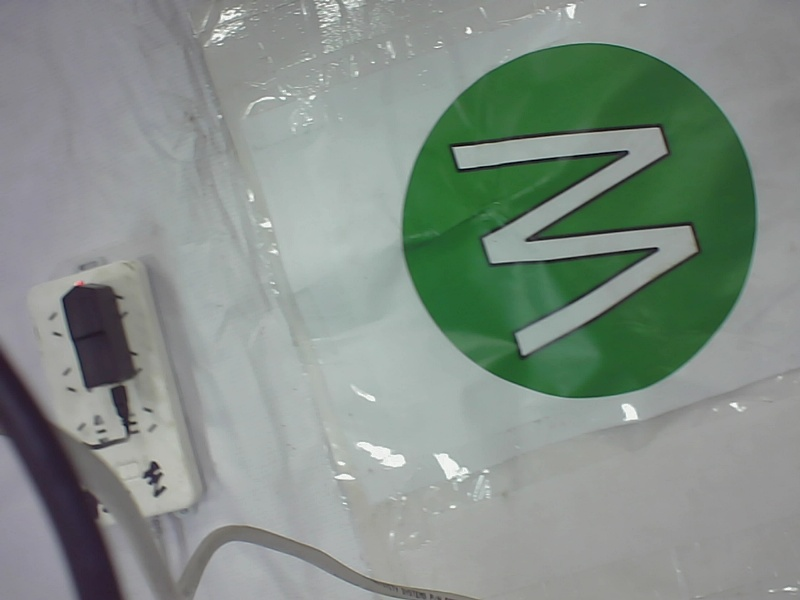areaB: (372, 39, 765, 404)
